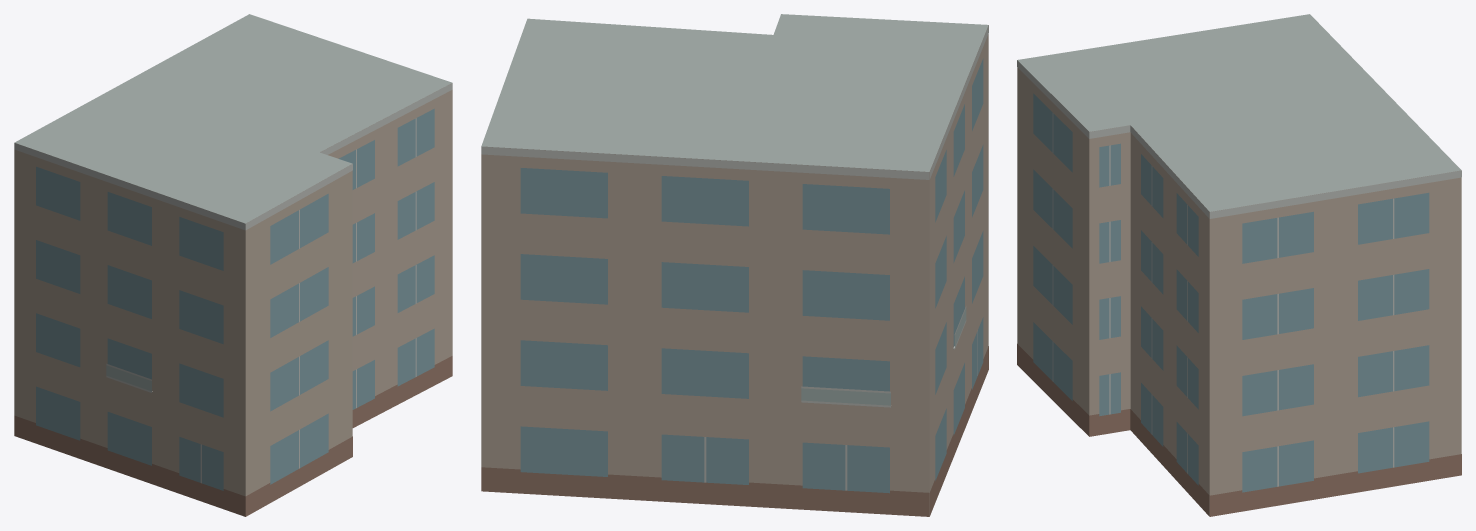
Rendered from survey-upis-32842994.glb.
3 views of the same model, side by side, from view 1: azimuth 30°, elevation 25°; view 2: azimuth 150°, elevation 25°; view 3: azimuth 270°, elevation 25° (orthographic). The views are drawn at different scales.
Visible parts, largest first — view 1: survey-upis-32842994.tmp; view 2: survey-upis-32842994.tmp; view 3: survey-upis-32842994.tmp.
Boxes of the visible parts, box(x1,y1,x2,y2) form: survey-upis-32842994.tmp: box(14, 14, 452, 516); survey-upis-32842994.tmp: box(481, 14, 988, 516); survey-upis-32842994.tmp: box(1017, 14, 1461, 516).
Size of the model in its own units: 14.63 by 10.5 by 13.89.
